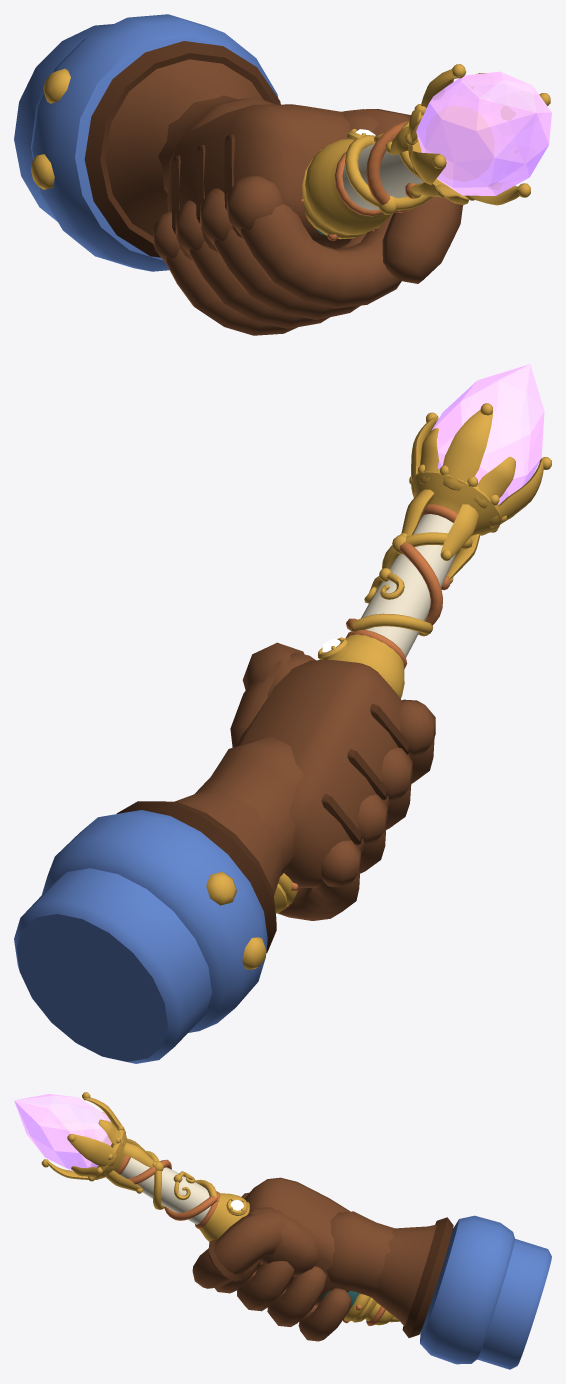
Rendered from vm_wand.glb.
3 renders of one model, top to bottom at view 1: azimuth 30°, elevation 25°; view 2: azimuth 150°, elevation 25°; view 3: azimuth 270°, elevation 25°, orthographic. The views are drawn at different scales.
Visible parts, largest first — view 1: Glove, Wand; view 2: Glove, Wand; view 3: Glove, Wand.
Part boxes in pixels (<box>): Glove: <box>14,14,463,335</box>; Wand: <box>301,64,551,240</box>; Glove: <box>14,642,435,1063</box>; Wand: <box>274,364,551,913</box>; Glove: <box>192,1177,551,1369</box>; Wand: <box>14,1092,399,1325</box>.
Bounding box in the file's own units: 0.1559 × 0.2921 × 0.5437.
